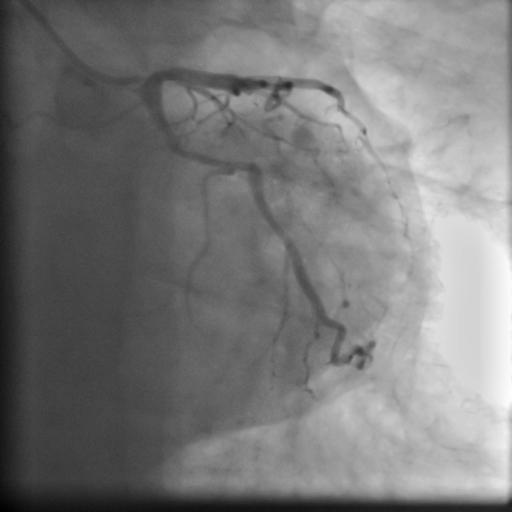Stenosis: (227, 156, 254, 175)
